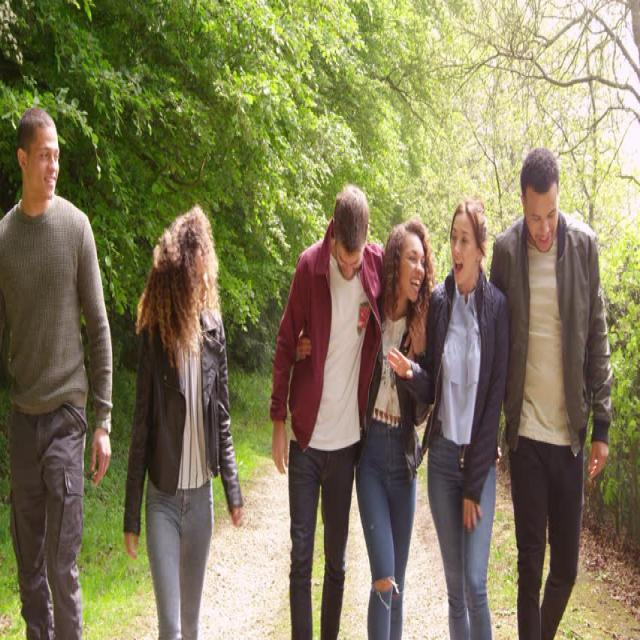body: (488, 144, 614, 640), (0, 100, 116, 638), (292, 211, 434, 638), (118, 202, 249, 638), (269, 182, 389, 640), (406, 191, 516, 638)
